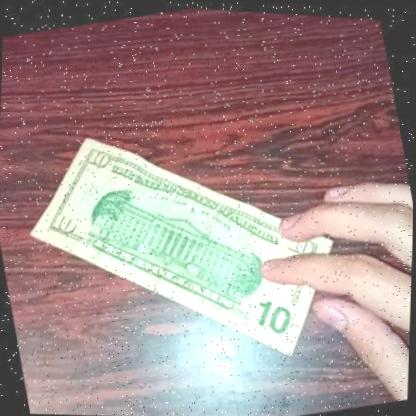dollar_back: (5, 83, 352, 407)
